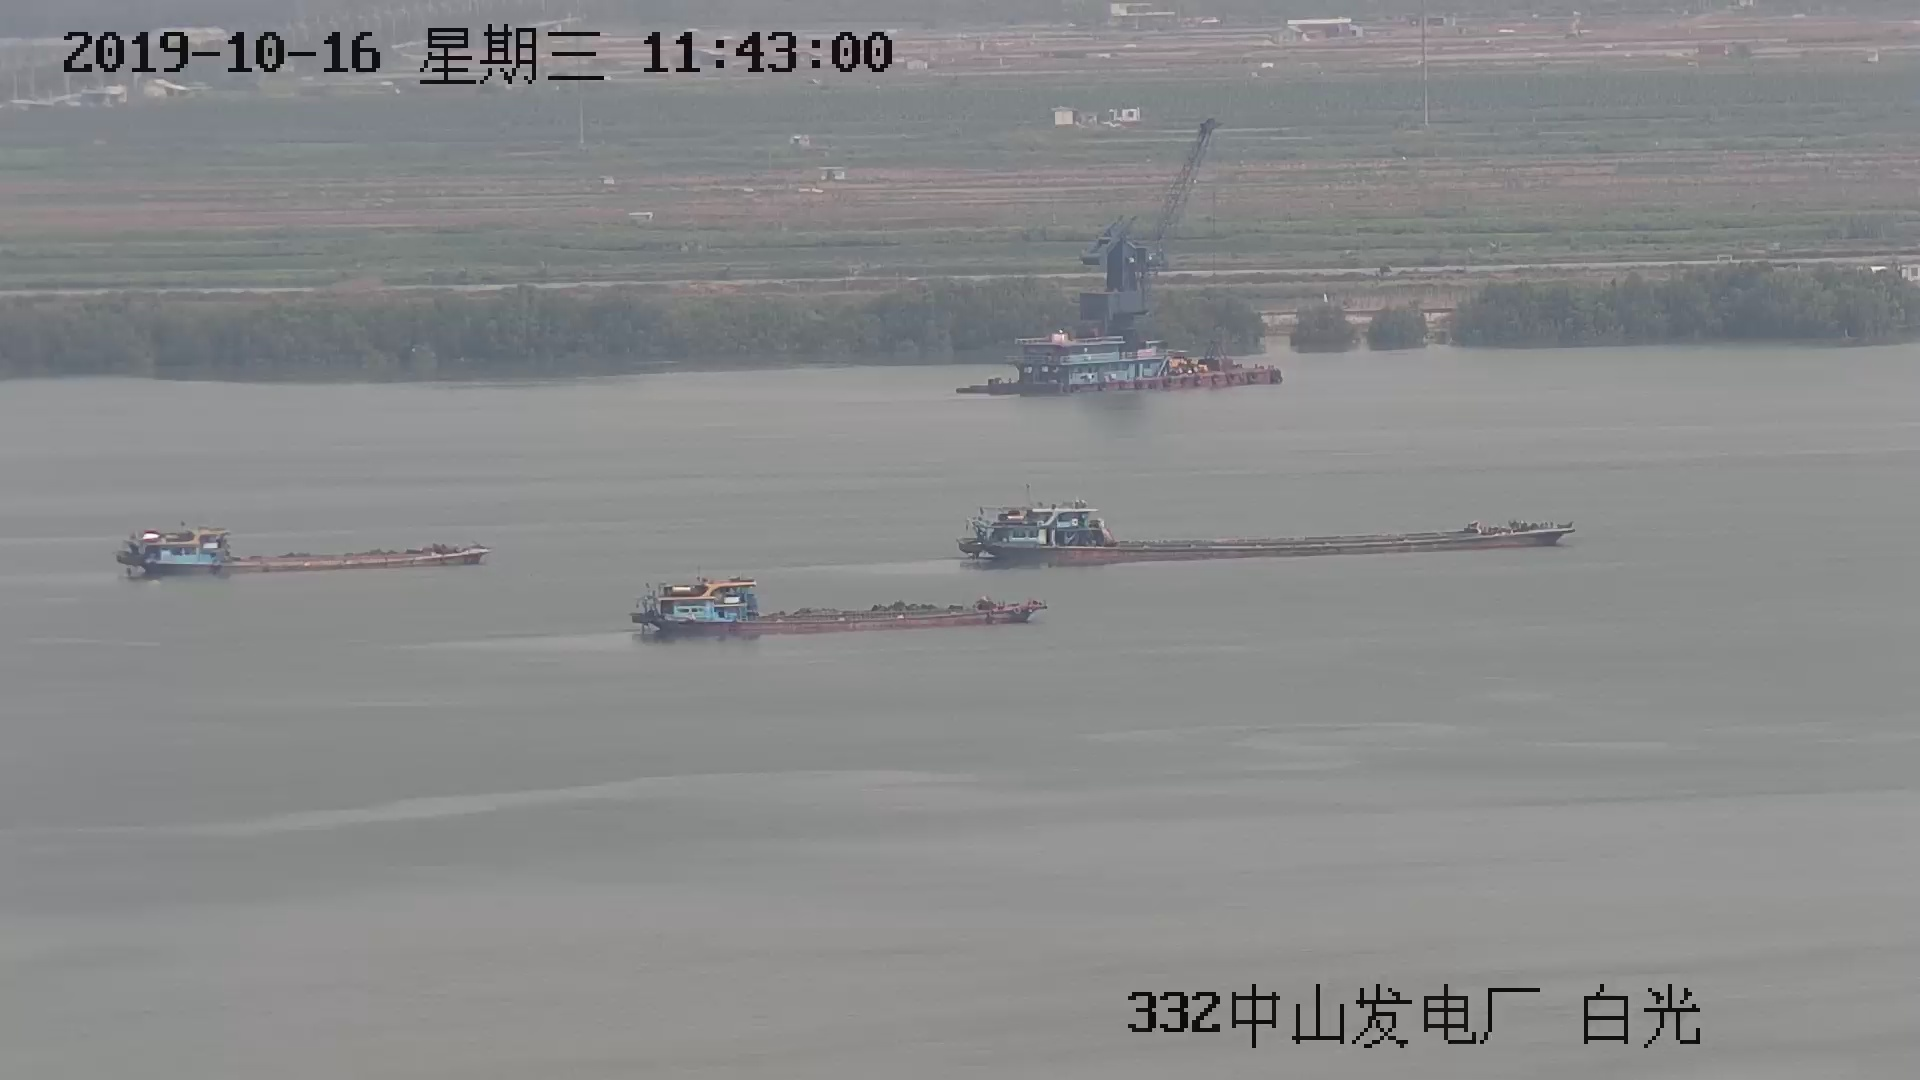ship: (963, 495, 1575, 564), (633, 578, 1044, 637), (119, 522, 489, 579)
